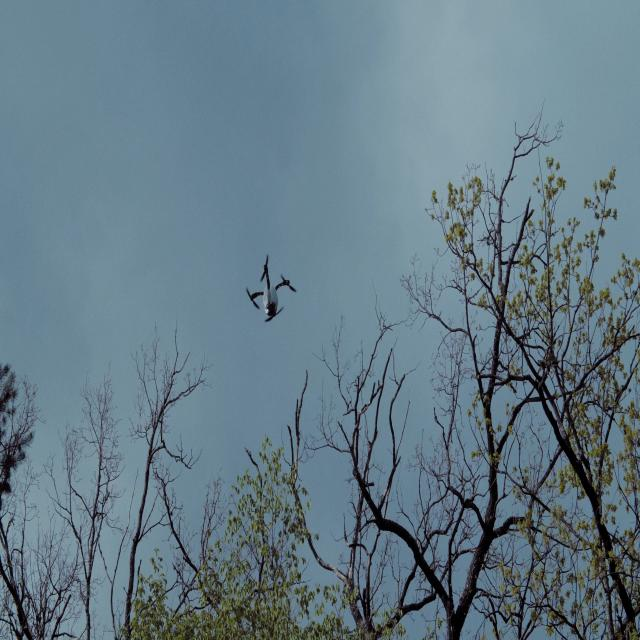Drone: (248, 256, 302, 336)
